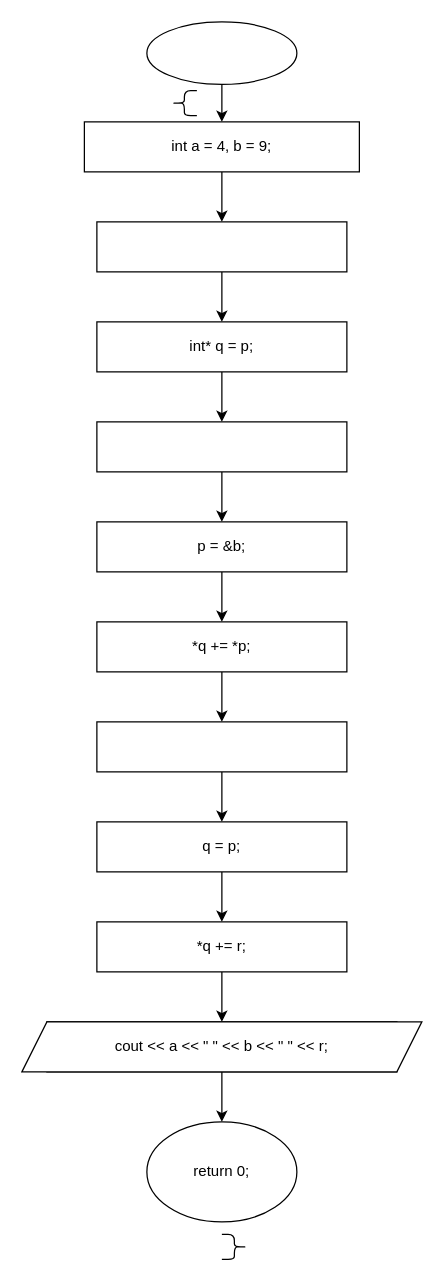
Image size: 444x1281. Some labels were removed from this diagram. Each missing label, with the centre of its shape:
*p = r - 3;: the point at 221,746
int& r = *p;: the point at 221,446
int* p = &a;: the point at 221,246
Начало: the point at 221,52
